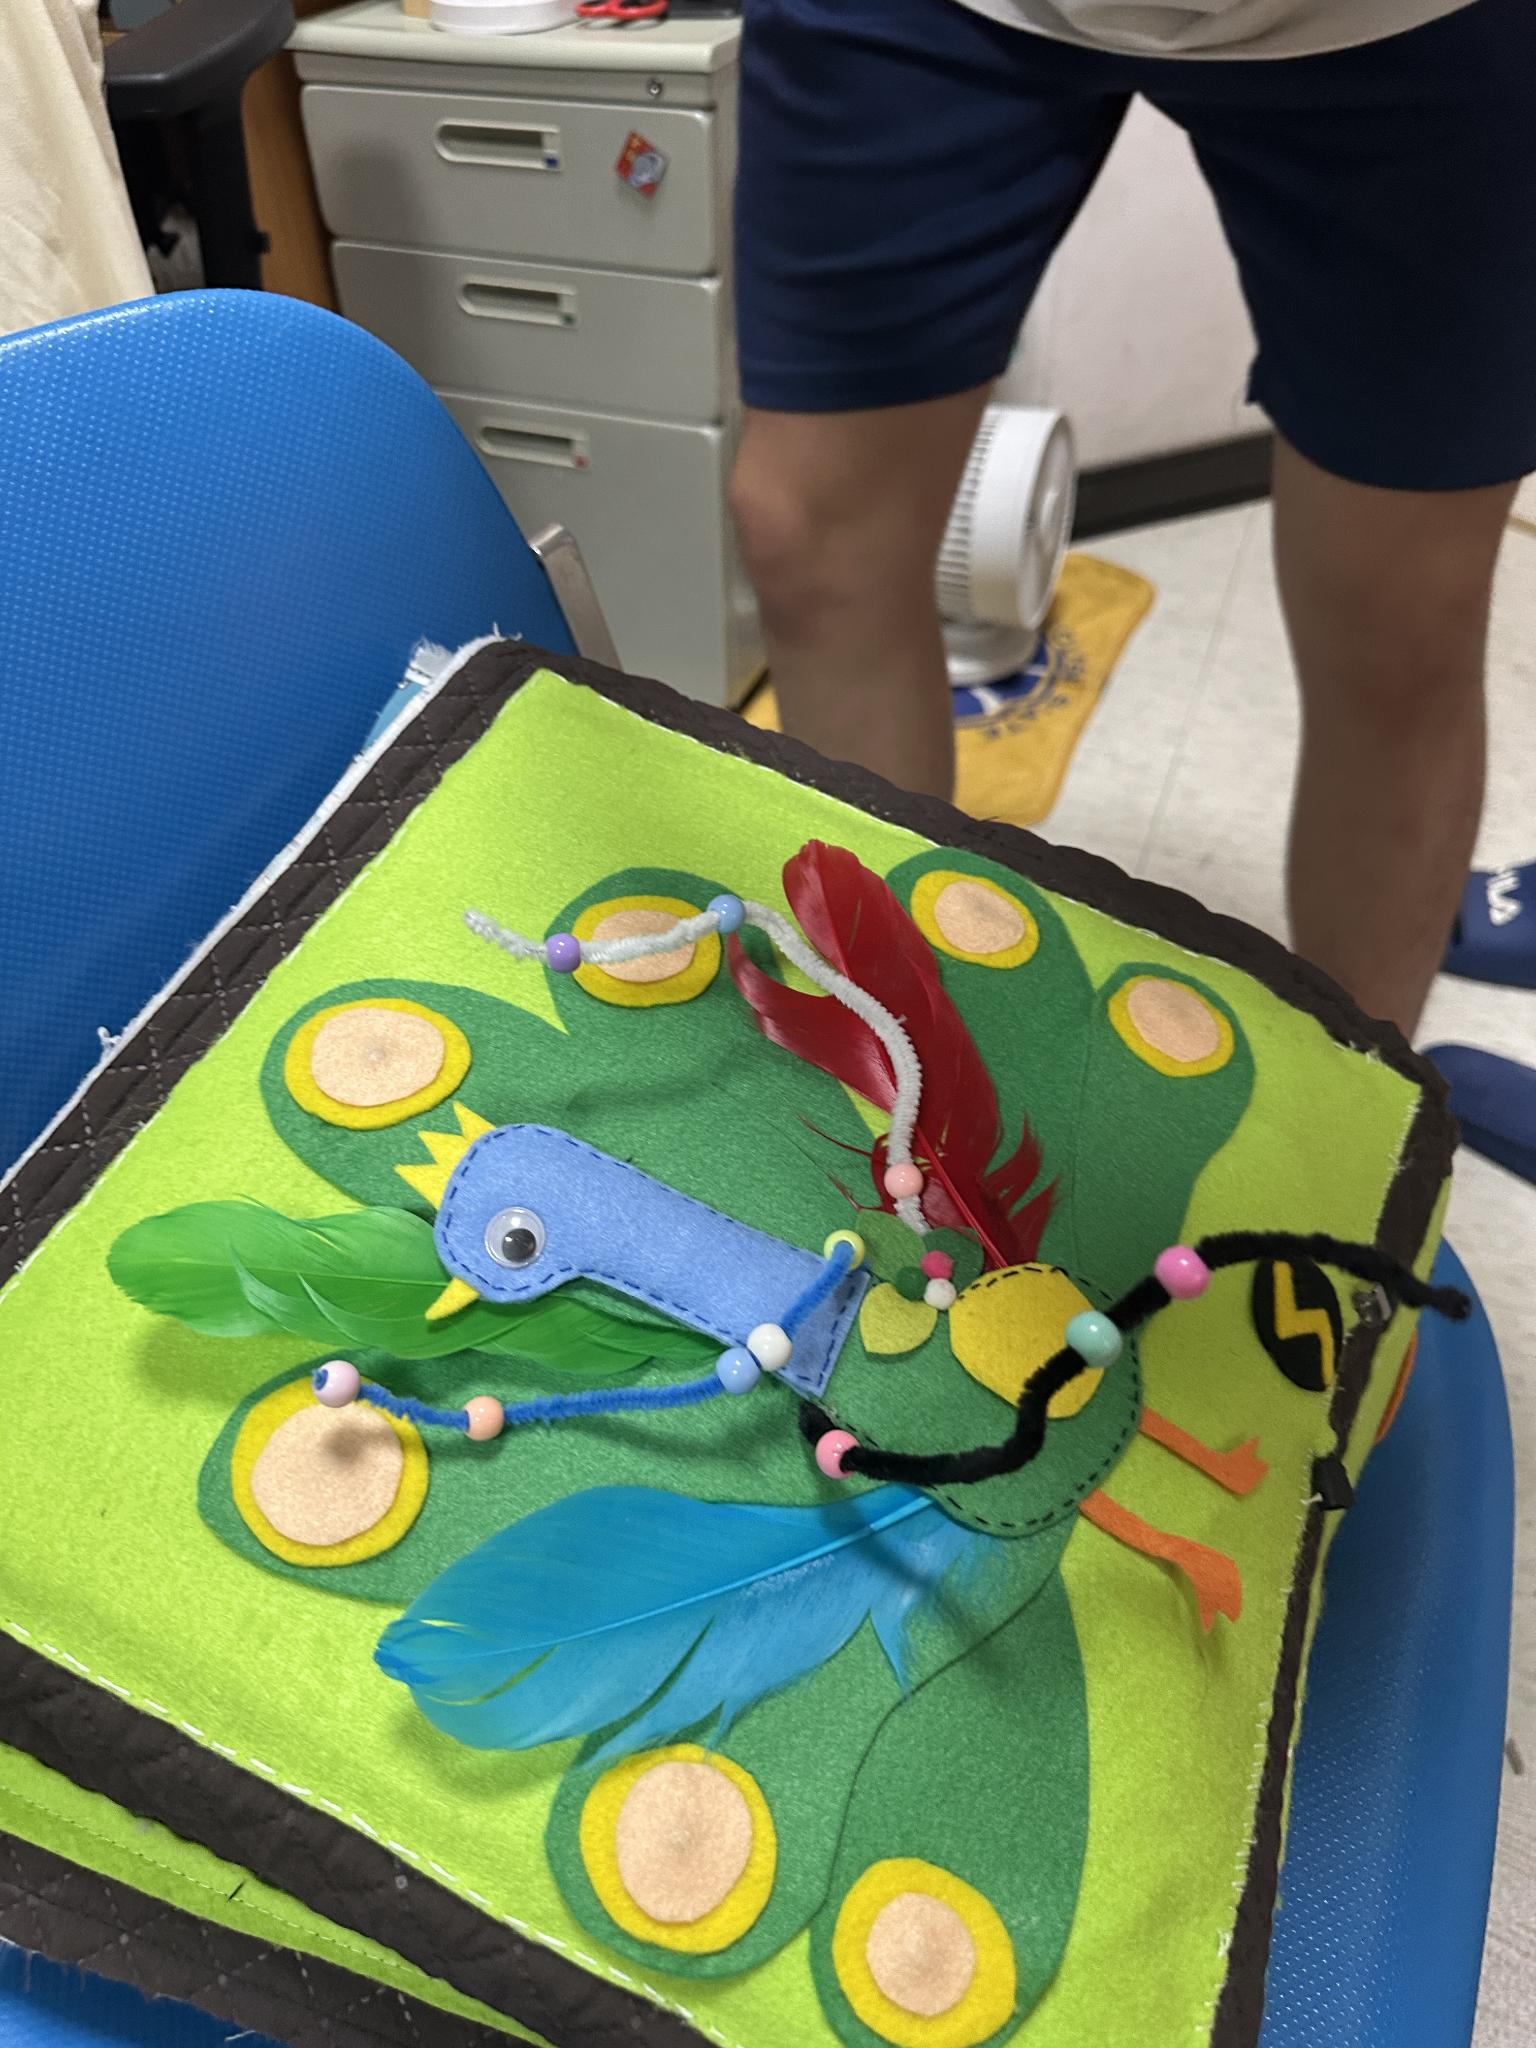bead: (1150, 1240, 1213, 1308), (313, 1343, 373, 1411), (461, 1384, 520, 1453), (821, 1226, 886, 1284), (1075, 1309, 1123, 1376), (539, 921, 589, 980), (708, 884, 755, 942), (892, 1137, 931, 1201), (752, 1326, 797, 1377), (815, 1424, 860, 1476), (712, 1342, 752, 1385)
